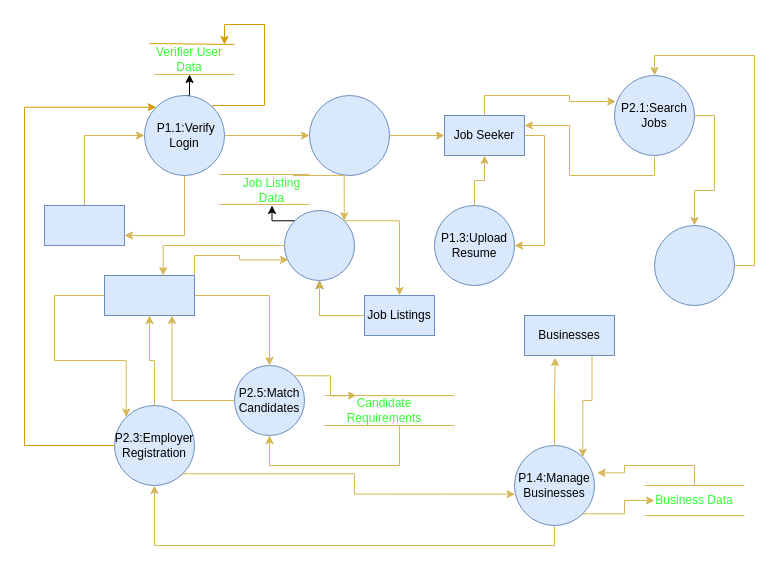
Some shapes in this 780 by 571 pixel diagram are drawn without their labels. The shapes that lost their labels are listed below. From the top down, each one's centre as x and y in pixels, then its label:
At [349,135]: "P1.2:Job Seeker Registration".
At [84,225]: "User".
At [319,245]: "P2.4:Post Jobs".
At [694,265]: "P2.2:Match Jobs".
At [149,295]: "Employer".
